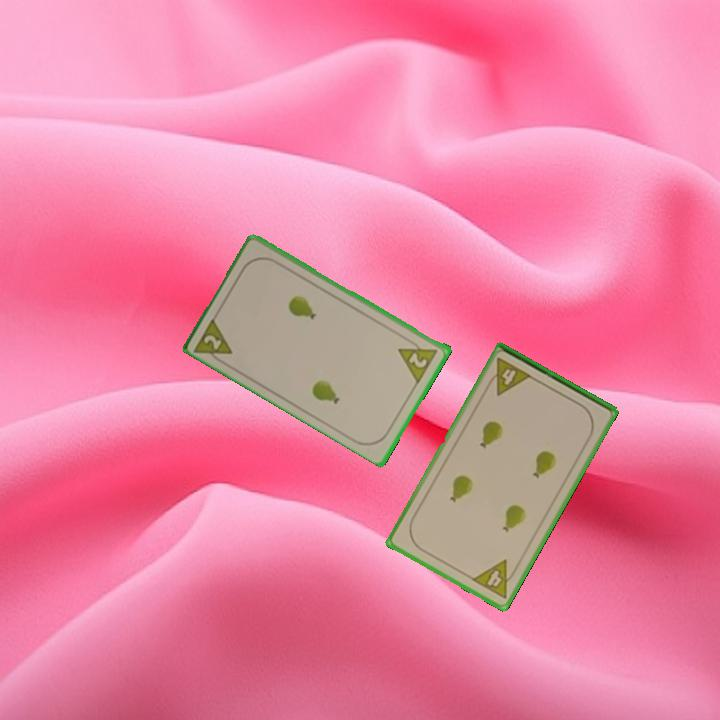2p: (191, 313, 236, 368), (395, 333, 441, 385)
4p: (468, 556, 521, 602), (483, 354, 535, 398)
